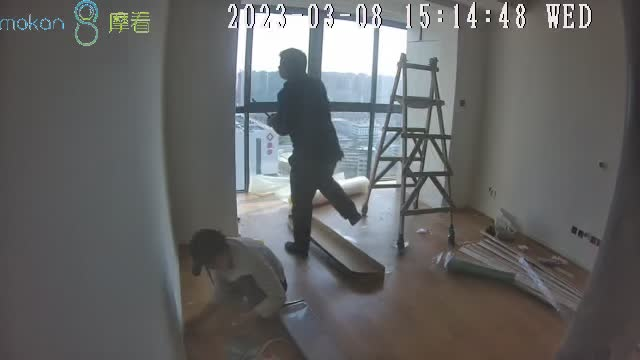people: (267, 47, 362, 258), (188, 229, 286, 334)
window: (236, 9, 408, 194)
